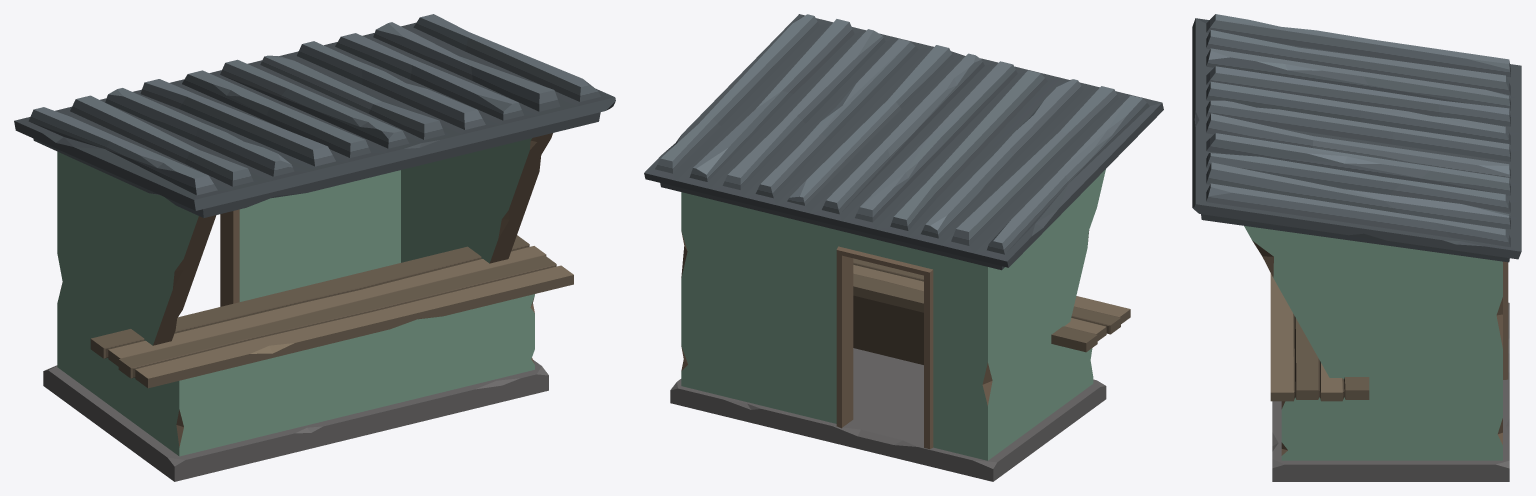
Rendered from SM_Bld_Beach_Shop_01.glb.
The picture shows the model from 3 angles, left to right: view 1: azimuth 30°, elevation 25°; view 2: azimuth 150°, elevation 25°; view 3: azimuth 270°, elevation 25°; orthographic projection. The views are drawn at different scales.
Visible parts, largest first — view 1: SM_Bld_Beach_Shop_01; view 2: SM_Bld_Beach_Shop_01; view 3: SM_Bld_Beach_Shop_01.
Part boxes in pixels (box(x1,y1,x2,y2)): SM_Bld_Beach_Shop_01: box(14, 14, 615, 481); SM_Bld_Beach_Shop_01: box(644, 14, 1163, 481); SM_Bld_Beach_Shop_01: box(1192, 14, 1521, 481).
Size of the model in its own units: 4.52 by 3.35 by 3.32.
Materials: 1 (1 with a texture image).
